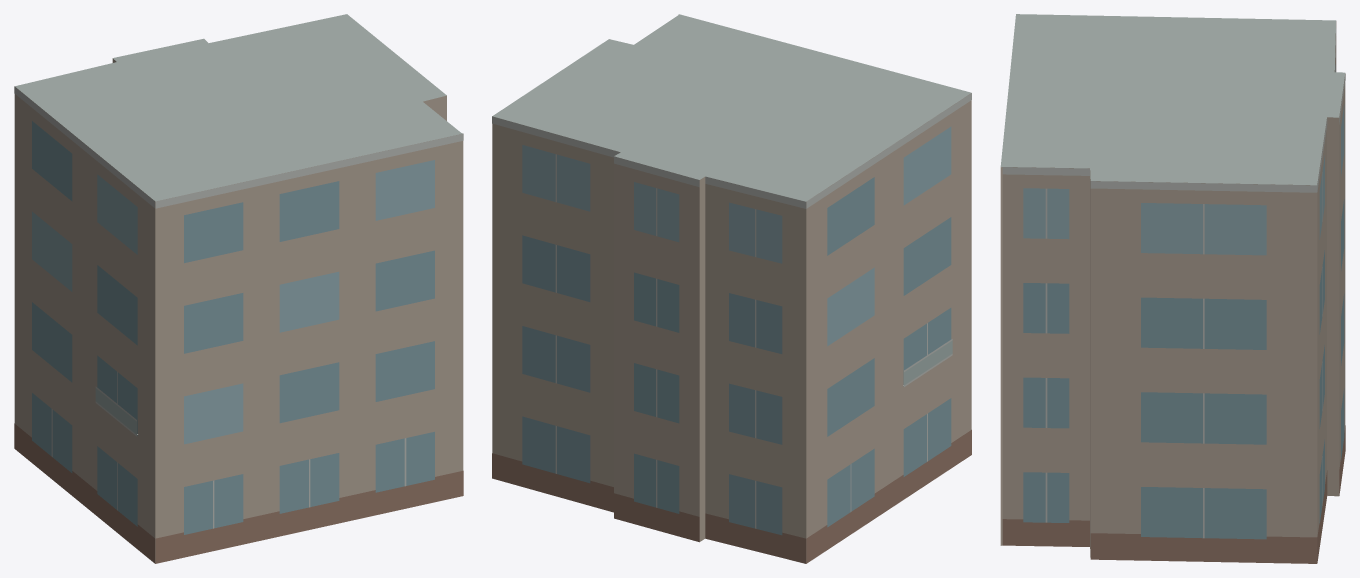
The model's file is survey-upis-32773462.glb.
The picture shows the model from 3 angles, left to right: view 1: azimuth 30°, elevation 25°; view 2: azimuth 150°, elevation 25°; view 3: azimuth 270°, elevation 25°; orthographic projection. The views are drawn at different scales.
Parts seen in each view (by area): view 1: survey-upis-32773462.tmp; view 2: survey-upis-32773462.tmp; view 3: survey-upis-32773462.tmp.
Part boxes in pixels (x1,y1,x2,y2): survey-upis-32773462.tmp: (14, 14, 463, 563); survey-upis-32773462.tmp: (492, 14, 971, 563); survey-upis-32773462.tmp: (1000, 14, 1345, 563).
Size of the model in its own units: 11.84 by 12.2 by 10.08.
